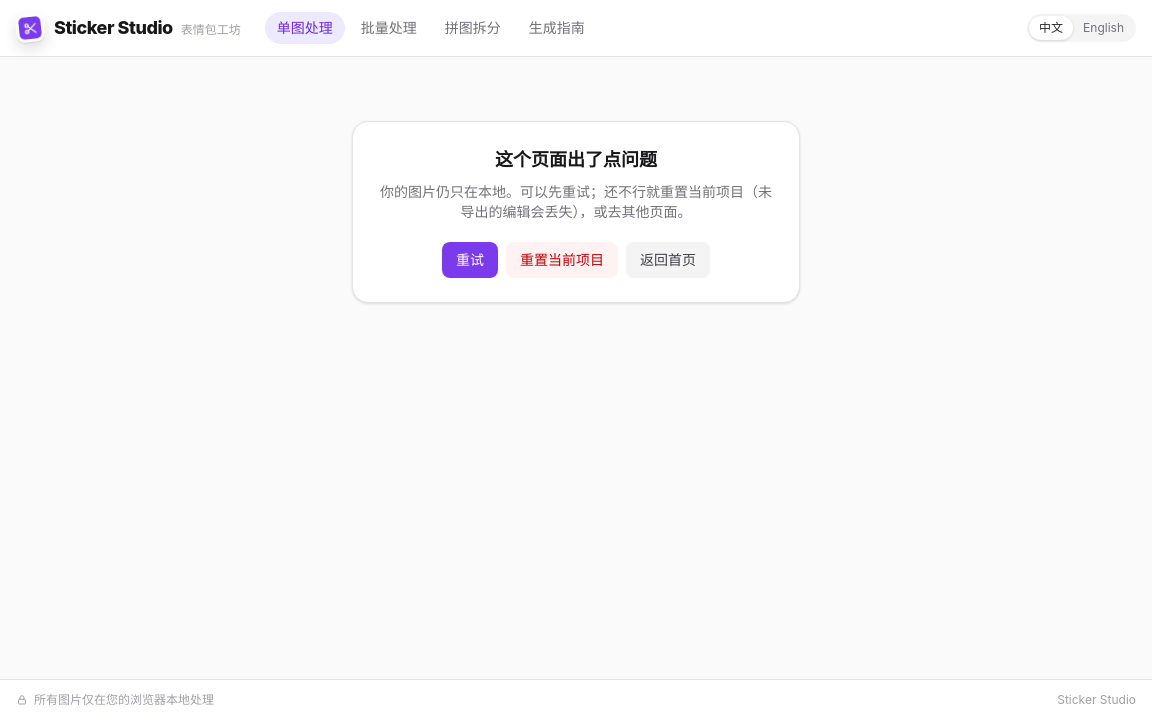
route-level error boundary › home button navigates to / and shows home
This screenshot has width=1152, height=720.
Click the button "返回首页".
click(668, 260)  # box [626, 242, 710, 278]
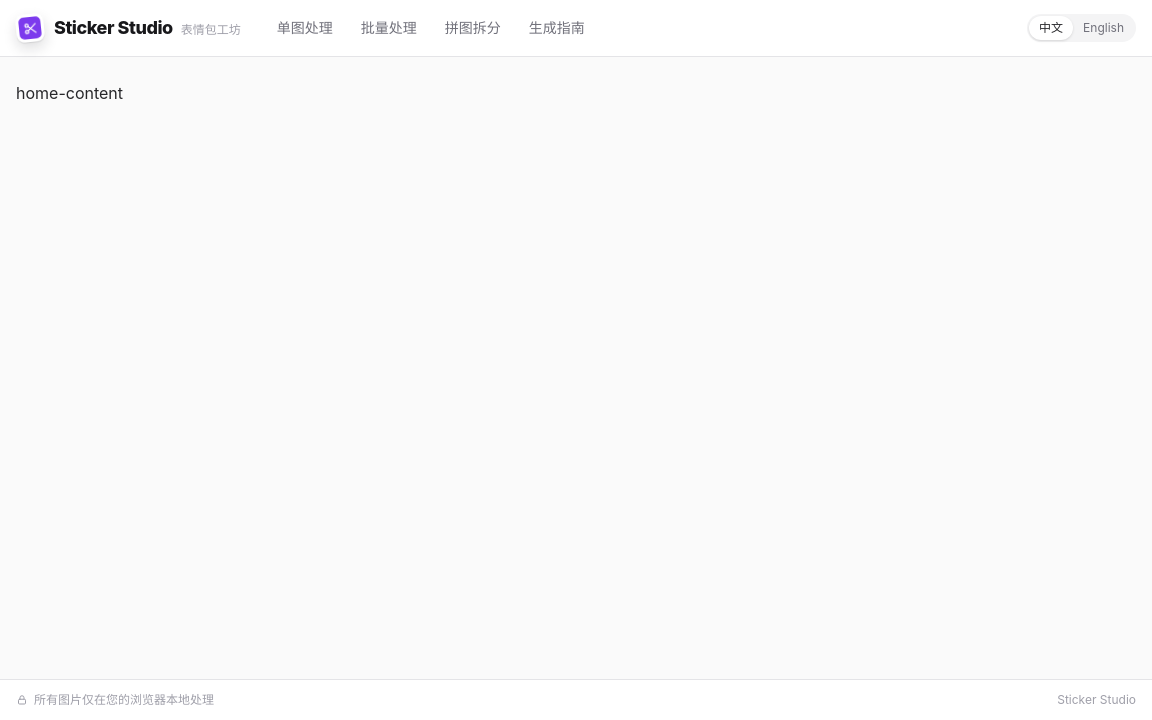
Result: the text "home-content" is shown at [16, 83, 123, 103]
